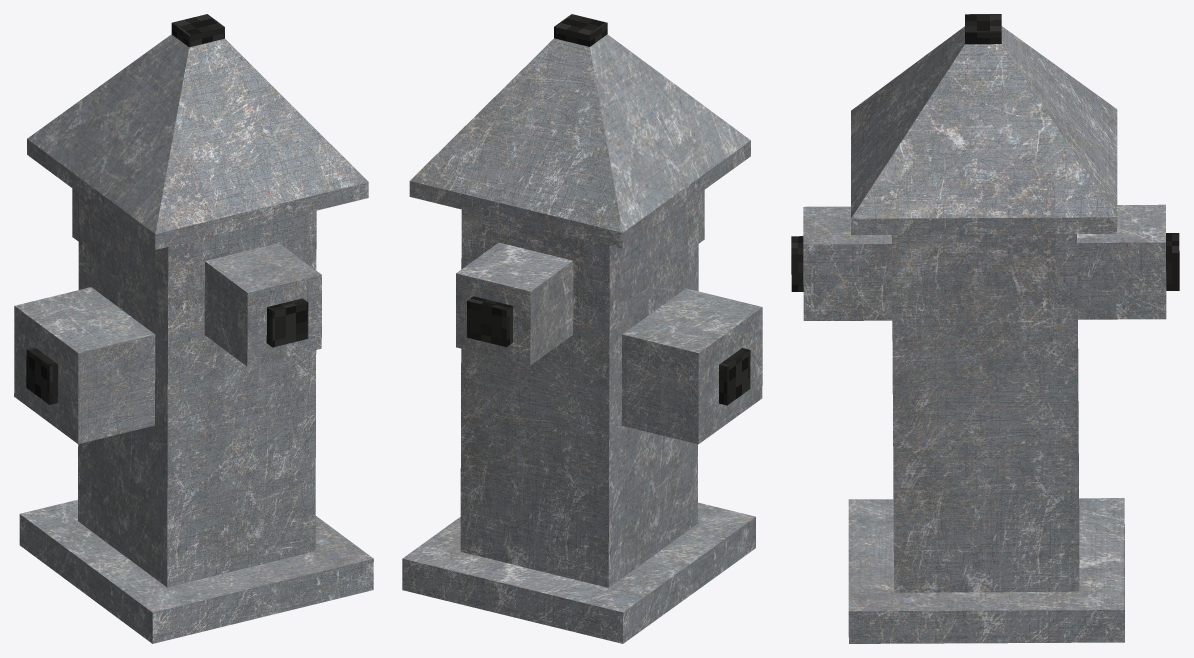
File: BLOCKYGON_FIREHYDREN (BLOCKY).fbx
The picture shows the model from 3 angles, left to right: view 1: azimuth 30°, elevation 25°; view 2: azimuth 150°, elevation 25°; view 3: azimuth 270°, elevation 25°; orthographic projection. The views are drawn at different scales.
Visible parts, largest first — view 1: BLOCKYGON_FIREHYDREN__BLOCKY_; view 2: BLOCKYGON_FIREHYDREN__BLOCKY_; view 3: BLOCKYGON_FIREHYDREN__BLOCKY_.
Boxes of the visible parts, <box> form: BLOCKYGON_FIREHYDREN__BLOCKY_: <box>14,14,373,643</box>; BLOCKYGON_FIREHYDREN__BLOCKY_: <box>402,14,762,643</box>; BLOCKYGON_FIREHYDREN__BLOCKY_: <box>791,14,1179,643</box>.
Bounding box in the file's own units: 50.05 × 96.53 × 60.12.
